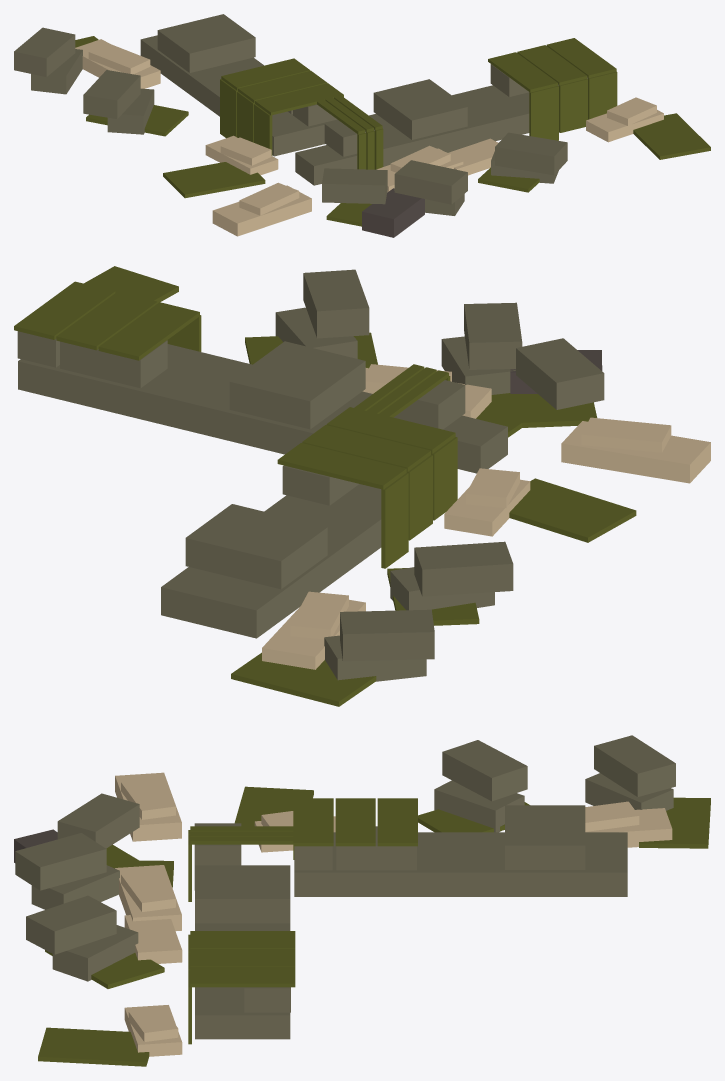
The model's file is SM_SacosEsquina_v4_Red_e2_MuyDanado_LOD1.fbx.
The picture shows the model from 3 angles, top to bottom: view 1: azimuth 30°, elevation 25°; view 2: azimuth 150°, elevation 25°; view 3: azimuth 270°, elevation 25°; orthographic projection. The views are drawn at different scales.
Visible parts, largest first — view 1: SM_sacos_piezas_v18_LOD1; view 2: SM_sacos_piezas_v18_LOD1; view 3: SM_sacos_piezas_v18_LOD1.
Boxes of the visible parts, x1,y1,x2,y2 form: SM_sacos_piezas_v18_LOD1: (14, 14, 710, 237); SM_sacos_piezas_v18_LOD1: (14, 266, 710, 706); SM_sacos_piezas_v18_LOD1: (14, 735, 710, 1066).
Bounding box in the file's own units: 6.8 × 0.7939 × 7.03.
